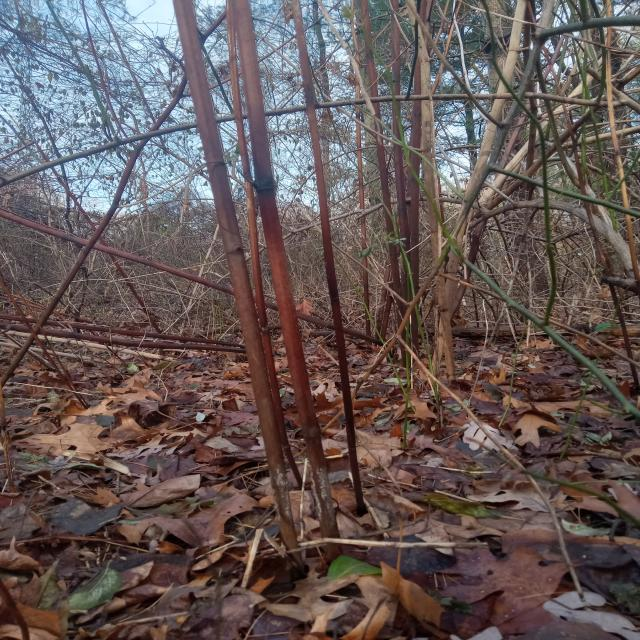knotweed-stems: (171, 1, 306, 570), (223, 0, 341, 564)
